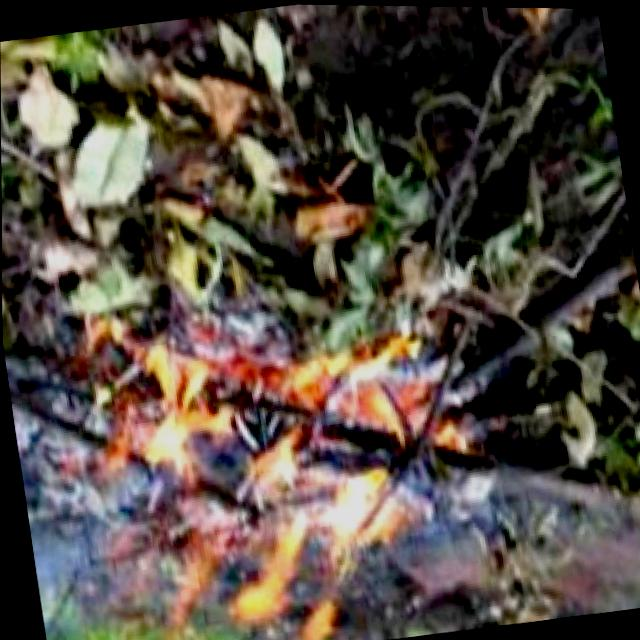helmet: (29, 257, 507, 640)
